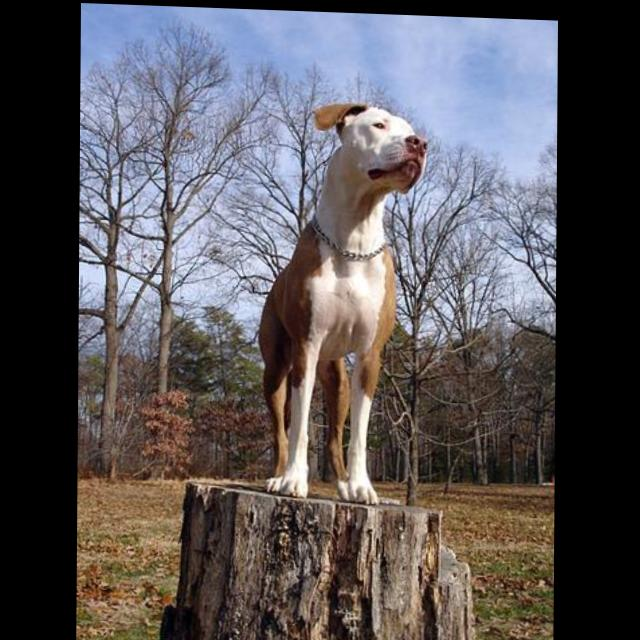amstaff: (259, 97, 432, 504)
